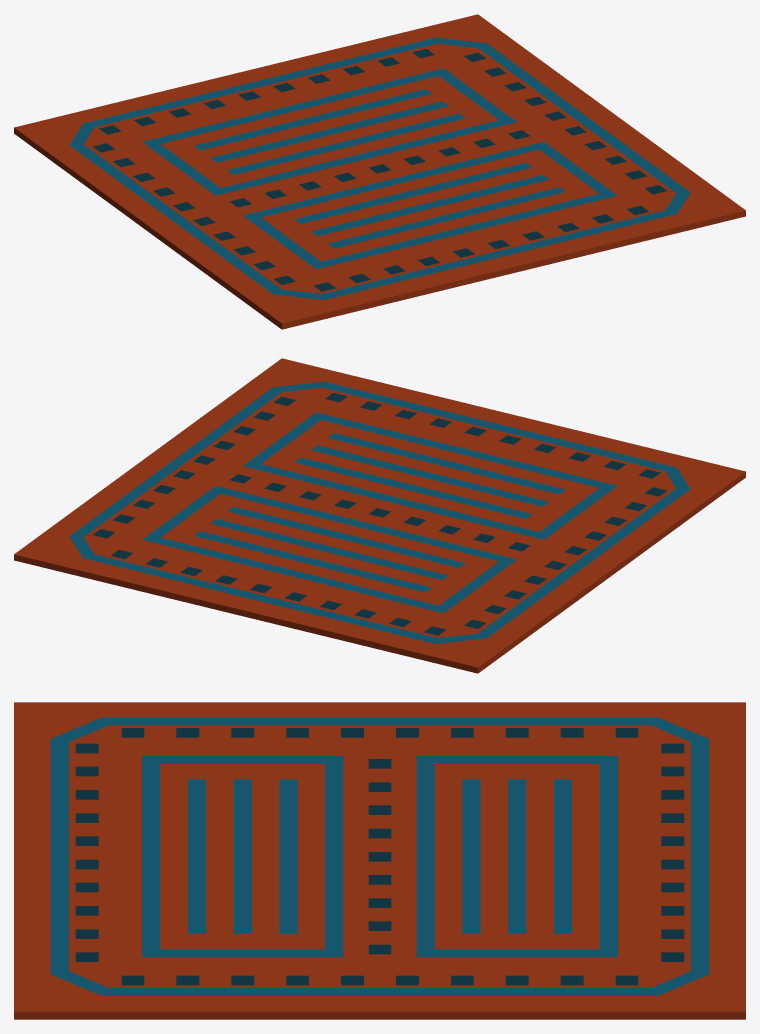
Rendered from Tile_1-4.fbx.
3 renders of one model, top to bottom at view 1: azimuth 30°, elevation 25°; view 2: azimuth 150°, elevation 25°; view 3: azimuth 270°, elevation 25°, orthographic. The views are drawn at different scales.
Parts seen in each view (by area): view 1: Tile_1-4; view 2: Tile_1-4; view 3: Tile_1-4.
Part boxes in pixels (box(x1,y1,x2,y2)): Tile_1-4: box(14, 14, 745, 329); Tile_1-4: box(14, 358, 745, 673); Tile_1-4: box(14, 702, 745, 1019).
Bounding box in the file's own units: 4 × 4 × 0.051.
